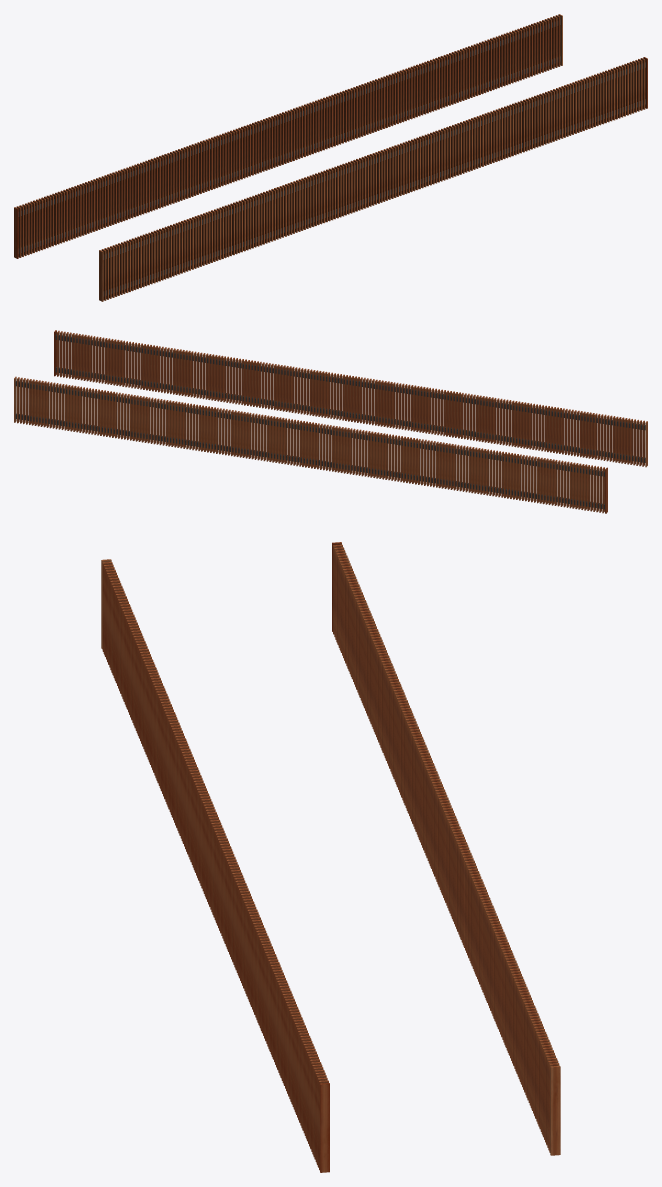
File: central_park_woodrail_A.FBX
3 renders of one model, top to bottom at view 1: azimuth 30°, elevation 25°; view 2: azimuth 150°, elevation 25°; view 3: azimuth 270°, elevation 25°, orthographic. The views are drawn at different scales.
Visible parts, largest first — view 1: central_park_woodrail_A, central_park_woodrail_A1; view 2: central_park_woodrail_A, central_park_woodrail_A1; view 3: central_park_woodrail_A, central_park_woodrail_A1.
Boxes of the visible parts, left/top/right/bottom form: central_park_woodrail_A: left=14, top=14, right=562, bottom=258; central_park_woodrail_A1: left=99, top=57, right=647, bottom=301; central_park_woodrail_A: left=14, top=376, right=607, bottom=513; central_park_woodrail_A1: left=54, top=330, right=647, bottom=467; central_park_woodrail_A: left=332, top=542, right=560, bottom=1155; central_park_woodrail_A1: left=101, top=559, right=329, bottom=1172.
Bounding box in the file's own units: 2633 × 200 × 941.
